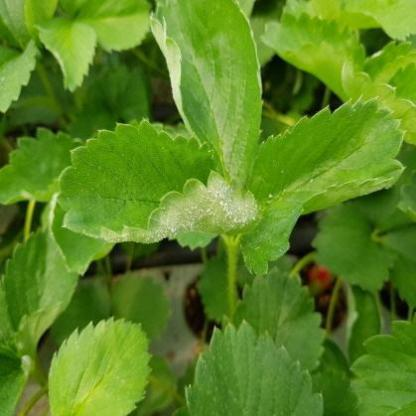Strawberry_Powdery_Mildew_Leaf: (235, 92, 408, 280), (56, 119, 264, 244), (148, 0, 264, 187)
